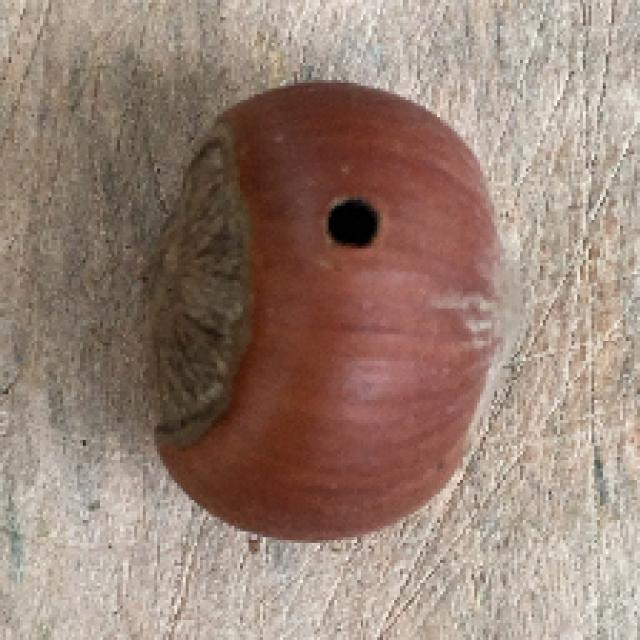damagedHazelnut: (126, 72, 528, 543)
